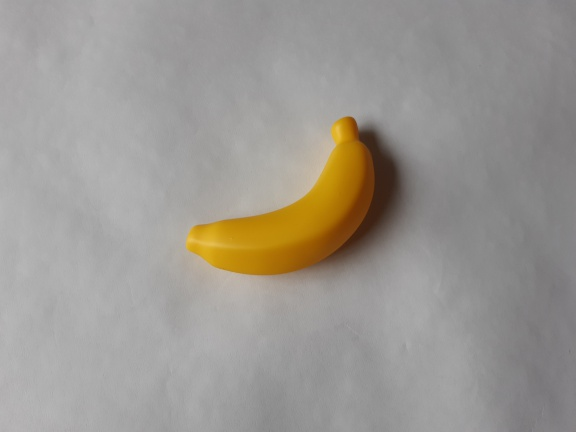banana: (178, 110, 385, 283)
